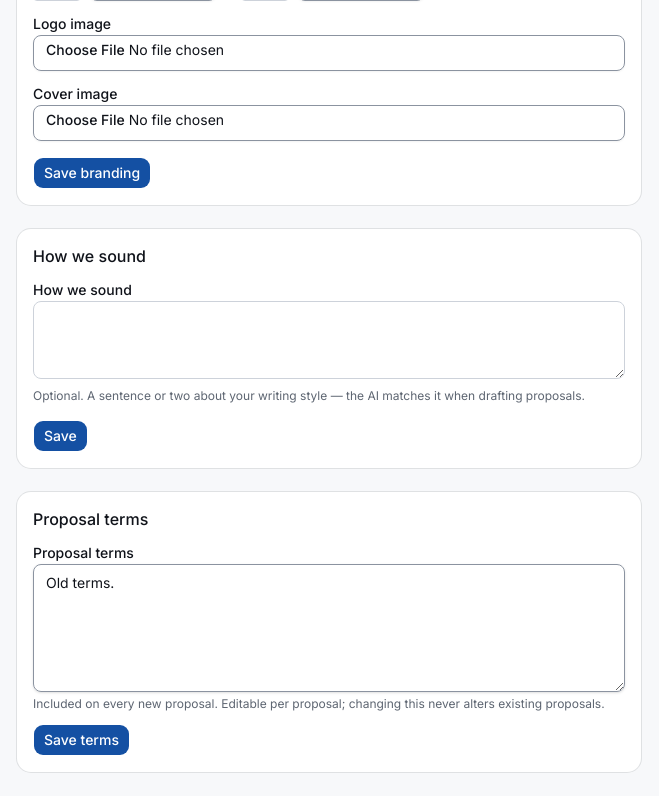
BrandingClient proposal terms › edits and saves the org default terms
(page scrolled)
Step 1. Replace the text in the text box labelled "Proposal terms" with "New terms." → [329, 628], box [33,564,625,692]
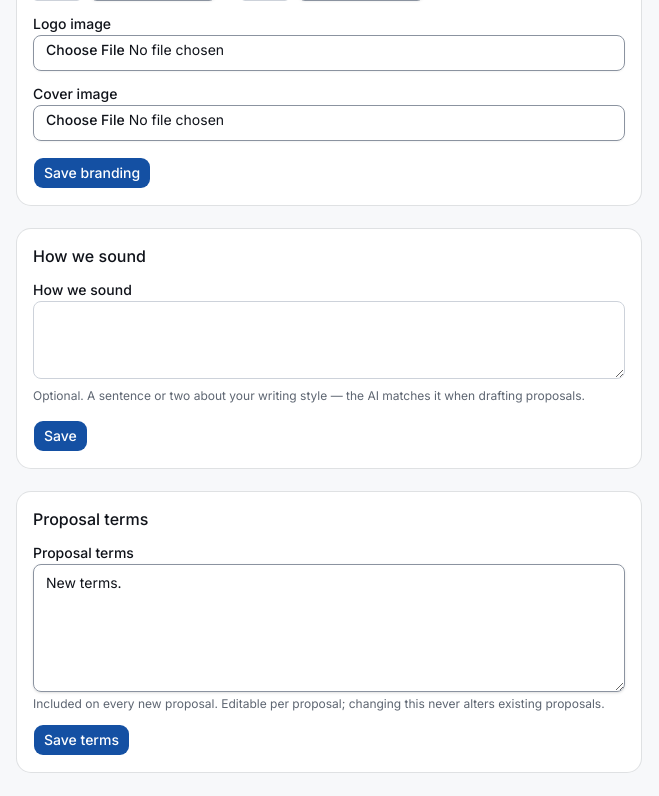
Step 2. Click the button "Save terms" → [81, 740], box [33,724,130,756]
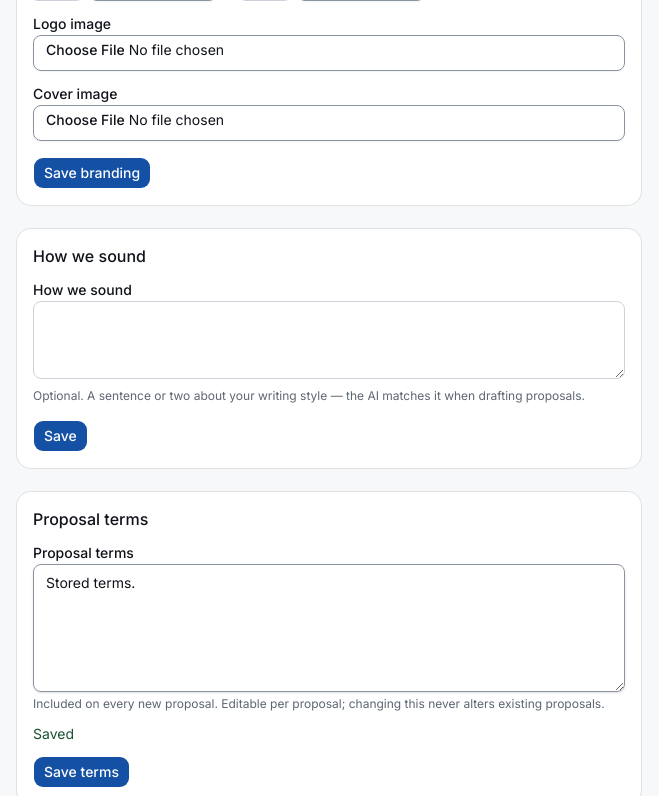
Expected: the text box labelled "Proposal terms" holds "Stored terms.", [33,564,625,692]
